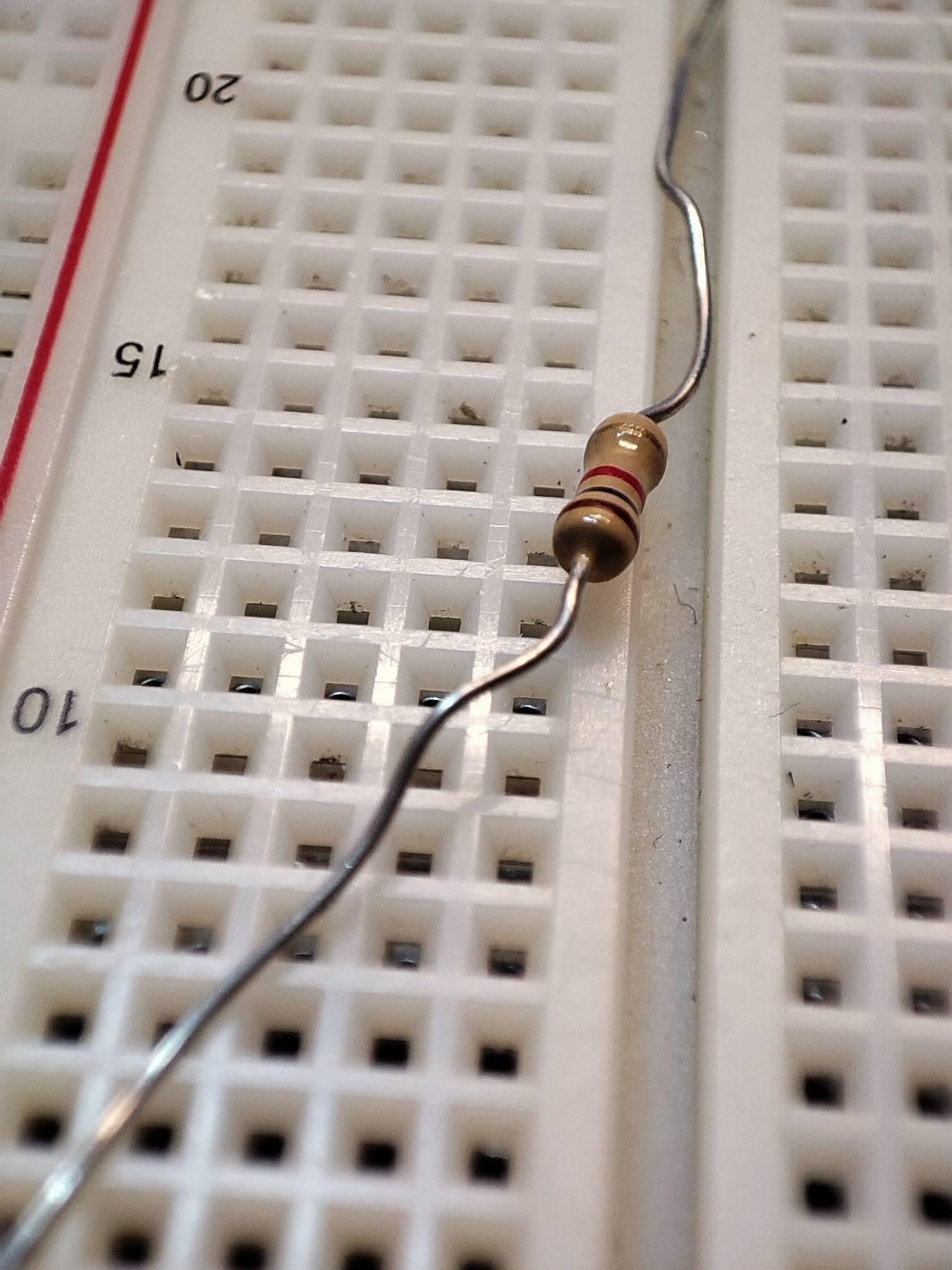resistor: (557, 401, 684, 586)
